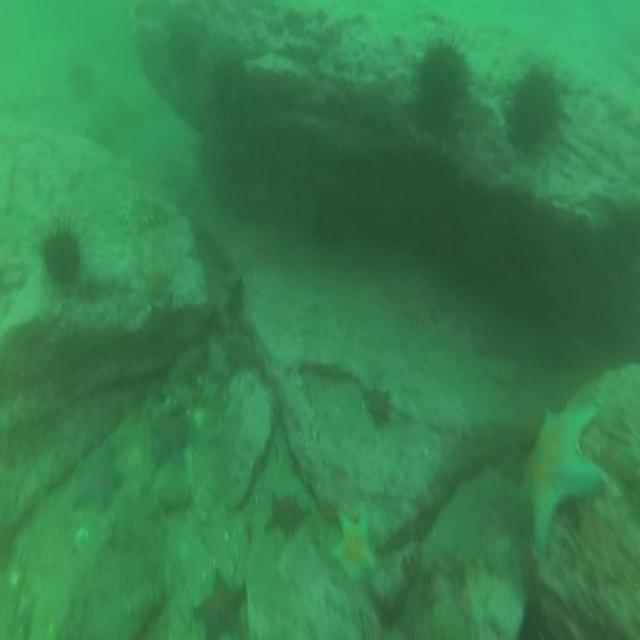echinus: (498, 52, 570, 163), (412, 27, 476, 137), (33, 218, 86, 296), (210, 60, 250, 131), (162, 16, 202, 84), (66, 59, 100, 109)
holothurian: (116, 190, 170, 248), (478, 346, 526, 392)
starfish: (516, 398, 609, 572), (330, 506, 383, 597), (189, 564, 250, 640), (70, 436, 126, 515), (145, 409, 195, 479), (262, 484, 311, 544), (361, 379, 397, 435), (140, 260, 169, 304)
